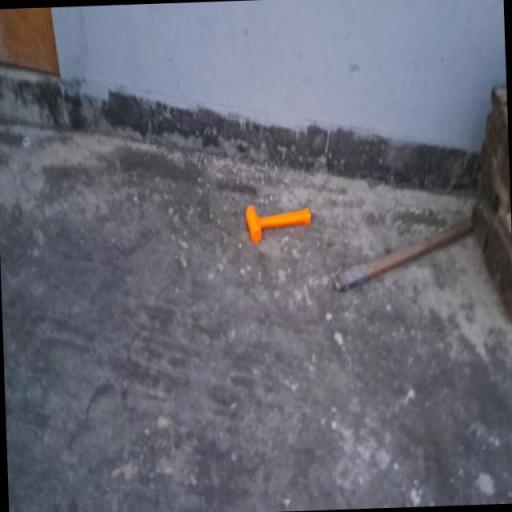mallet: (245, 200, 312, 239)
